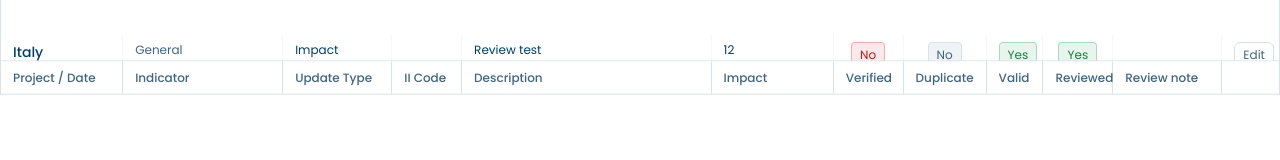
a reviewed toggle never flashes its old value during an unrelated refresh
This screenshot has width=1280, height=160.
Later steps or results of the test are not shown.
Click the 2nd button "Yes": click(1078, 55) [1058,42,1097,68]
Wait 550 ms
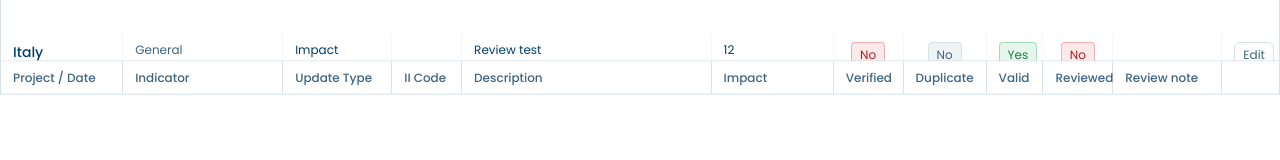
Expected: the 3rd button "No" is shown, [1061,42,1095,68]
